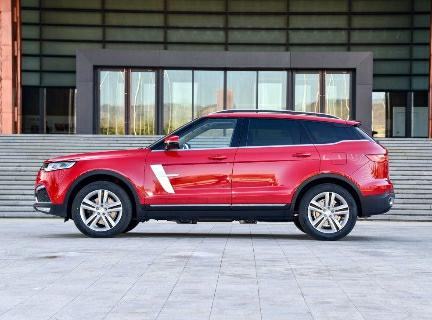car: (30, 101, 398, 243)
